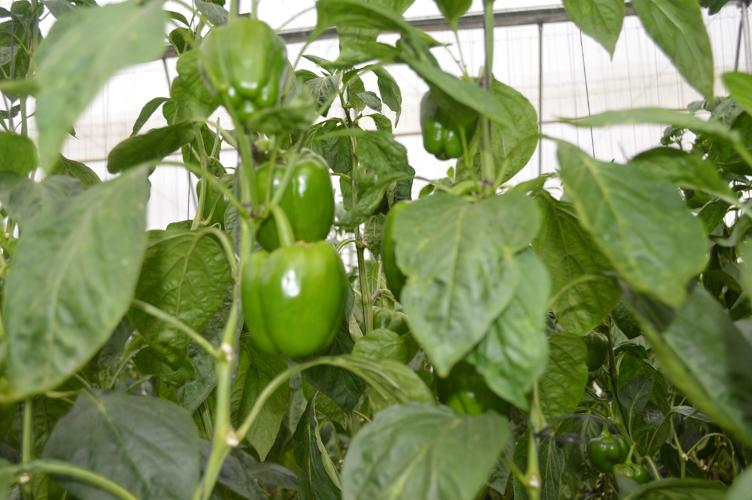BellPepper: (191, 17, 323, 130), (237, 250, 352, 371), (241, 143, 337, 242), (414, 86, 478, 167), (585, 426, 624, 473)
